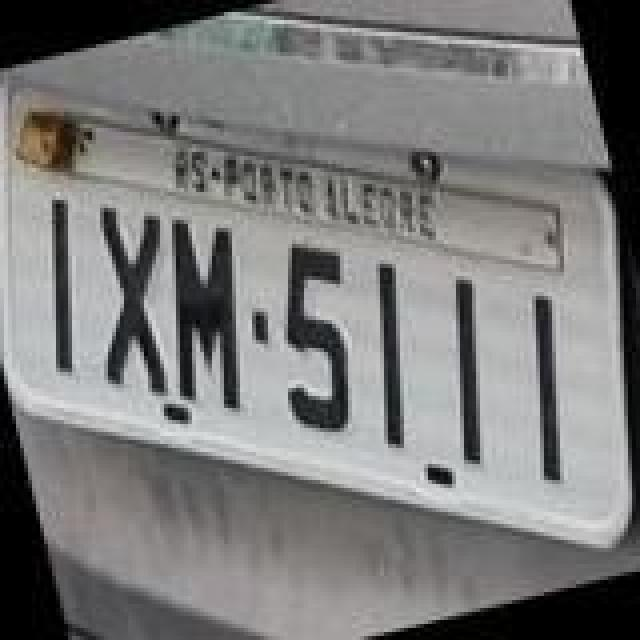1: (422, 268, 522, 468), (494, 284, 594, 484), (342, 256, 442, 448), (16, 192, 112, 376)
5: (248, 230, 384, 442)
M: (138, 202, 278, 422)
X: (66, 194, 206, 414)
